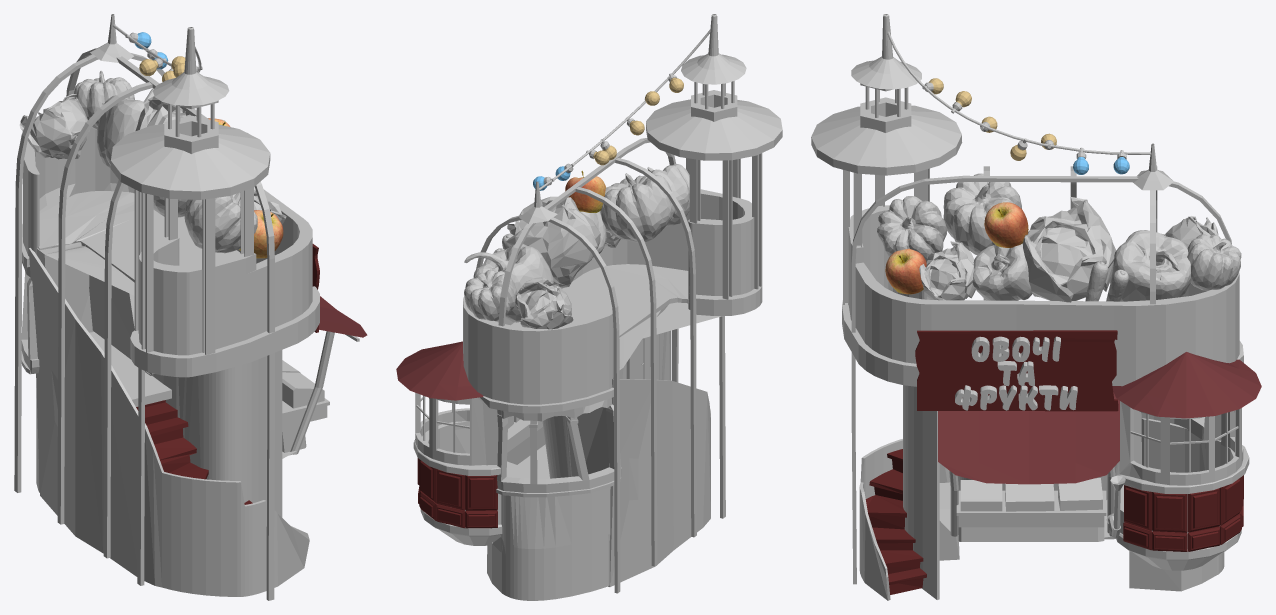
Rendered from fruits_and_veg.fbx.
The picture shows the model from 3 angles, left to right: view 1: azimuth 30°, elevation 25°; view 2: azimuth 150°, elevation 25°; view 3: azimuth 270°, elevation 25°; orthographic projection. The views are drawn at different scales.
Visible parts, largest first — view 1: Null_1, 50_cabbage_1_1, Plane_1, 30_sweet_dumpling_2, 79_pepper_2, 30_sweet_dumpling_2_1, 50_cabbage_1_2, apple01_lr_1; view 2: Null_1, 50_cabbage_1_2, 30_sweet_dumpling_2_2, 50_cabbage_1_1, 79_pepper_2, 30_sweet_dumpling_2_1, 30_sweet_dumpling_2, apple01_lr_1_2; view 3: Null_1, 50_cabbage_1_2, Plane_1, MoText_1, 79_pepper_2, 30_sweet_dumpling_2_2, 30_sweet_dumpling_2, 79_pepper_1, 50_cabbage_1, 30_sweet_dumpling_2_1, apple01_lr_1_2, apple01_lr_1 (+2 smaller).
Part boxes in pixels (<box>): Null_1: <box>14,14,367,600</box>; 50_cabbage_1_1: <box>19,94,89,159</box>; Plane_1: <box>136,400,252,504</box>; 30_sweet_dumpling_2: <box>184,192,257,253</box>; 79_pepper_2: <box>97,88,154,167</box>; 30_sweet_dumpling_2_1: <box>74,70,134,129</box>; 50_cabbage_1_2: <box>135,96,225,130</box>; apple01_lr_1: <box>239,210,283,258</box>; Null_1: <box>396,14,782,600</box>; 50_cabbage_1_2: <box>506,196,600,287</box>; 30_sweet_dumpling_2_2: <box>600,173,674,242</box>; 50_cabbage_1_1: <box>515,278,573,329</box>; 79_pepper_2: <box>464,244,553,322</box>; 30_sweet_dumpling_2_1: <box>464,269,516,321</box>; 30_sweet_dumpling_2: <box>643,164,689,226</box>; apple01_lr_1_2: <box>565,170,606,212</box>; Null_1: <box>811,14,1261,600</box>; 50_cabbage_1_2: <box>1022,197,1116,302</box>; Plane_1: <box>865,449,926,594</box>; MoText_1: <box>955,336,1077,410</box>; 79_pepper_2: <box>1110,230,1190,301</box>; 30_sweet_dumpling_2_2: <box>943,173,1021,254</box>; 30_sweet_dumpling_2: <box>877,196,946,261</box>; 79_pepper_1: <box>972,243,1032,300</box>; 50_cabbage_1: <box>919,241,975,300</box>; 30_sweet_dumpling_2_1: <box>1187,234,1241,291</box>; apple01_lr_1_2: <box>984,202,1028,247</box>; apple01_lr_1: <box>885,248,926,294</box>.
Size of the model in its own units: 832 by 1561 by 1182.
